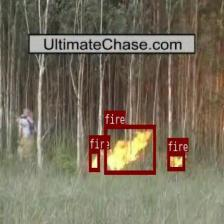fire: (104, 125, 155, 173), (167, 151, 185, 170), (88, 148, 100, 170)
